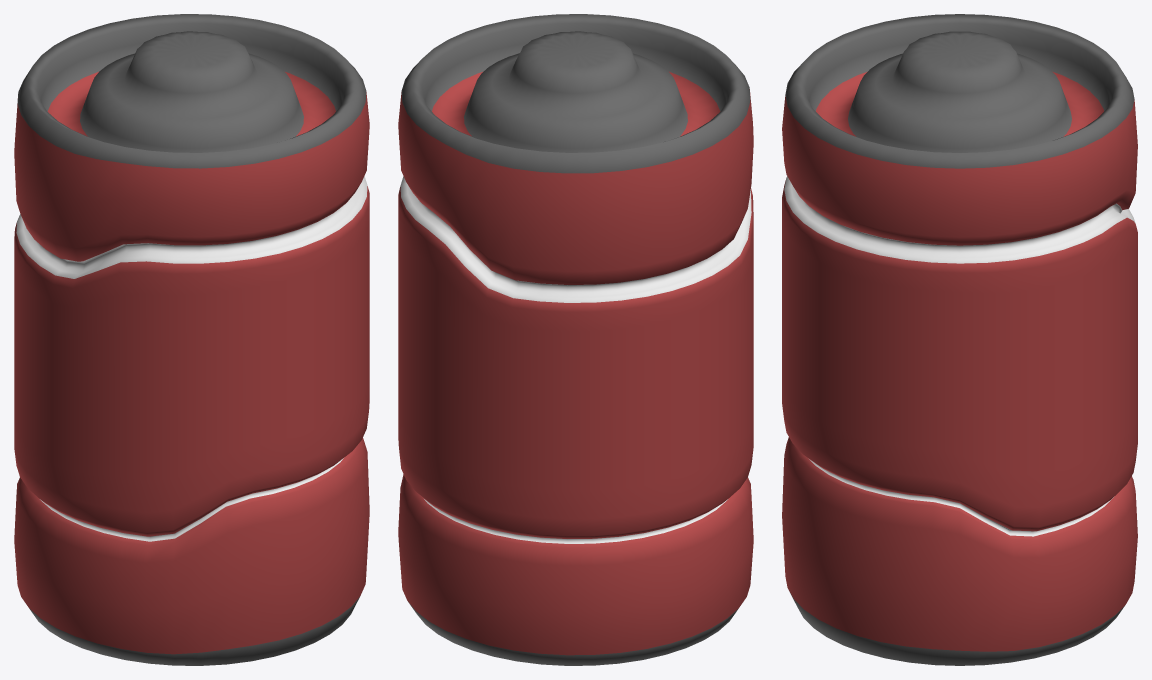
File: Barrel.fbx
3 views of the same model, side by side, from view 1: azimuth 30°, elevation 25°; view 2: azimuth 150°, elevation 25°; view 3: azimuth 270°, elevation 25° (orthographic).
Visible parts, largest first — view 1: Barrel; view 2: Barrel; view 3: Barrel.
Boxes of the visible parts, bbox=[...] form: Barrel: bbox=[14, 14, 369, 665]; Barrel: bbox=[398, 14, 753, 665]; Barrel: bbox=[782, 14, 1137, 665].
Bounding box in the file's own units: 3.99 × 6.74 × 3.99.
